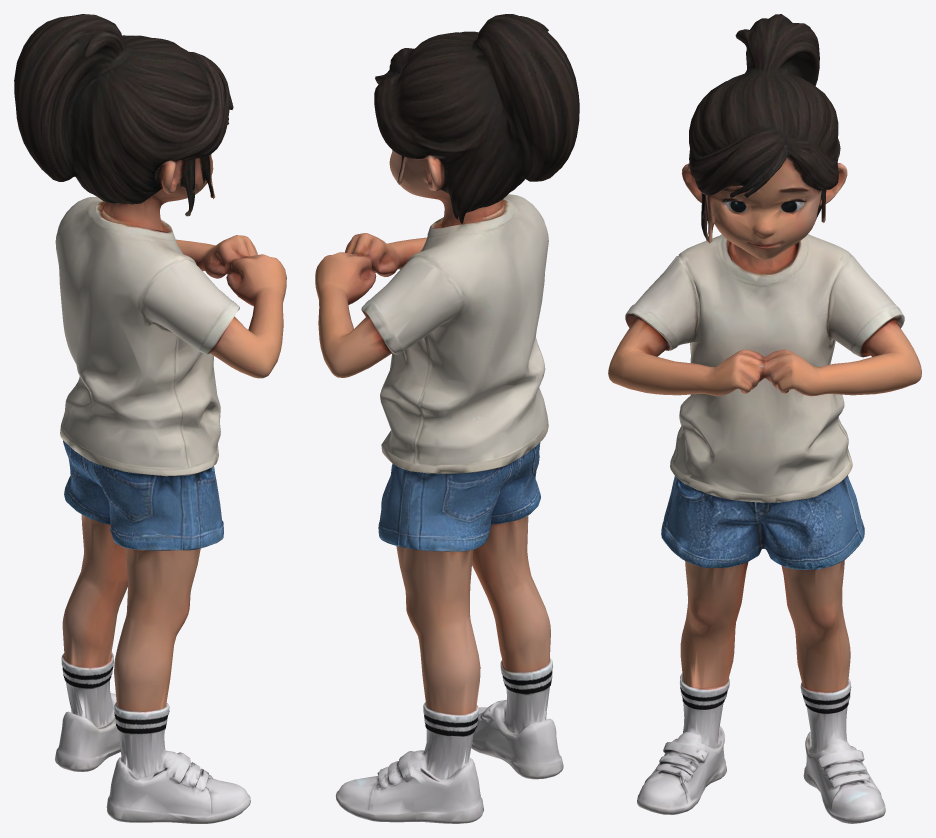
The model's file is girl4.glb.
3 renders of one model, left to right at view 1: azimuth 30°, elevation 25°; view 2: azimuth 150°, elevation 25°; view 3: azimuth 270°, elevation 25°, orthographic. The views are drawn at different scales.
Parts seen in each view (by area): view 1: tripo_node_a2260dc5-dc39-4c1c-a465-c1998010aafe; view 2: tripo_node_a2260dc5-dc39-4c1c-a465-c1998010aafe; view 3: tripo_node_a2260dc5-dc39-4c1c-a465-c1998010aafe.
Boxes of the visible parts, box(x1,y1,x2,y2) form: tripo_node_a2260dc5-dc39-4c1c-a465-c1998010aafe: box(14, 14, 286, 823); tripo_node_a2260dc5-dc39-4c1c-a465-c1998010aafe: box(315, 14, 579, 823); tripo_node_a2260dc5-dc39-4c1c-a465-c1998010aafe: box(608, 14, 921, 823).
Size of the model in its own units: 0.335 by 0.9982 by 0.3788.
1 material, 1 textured.
